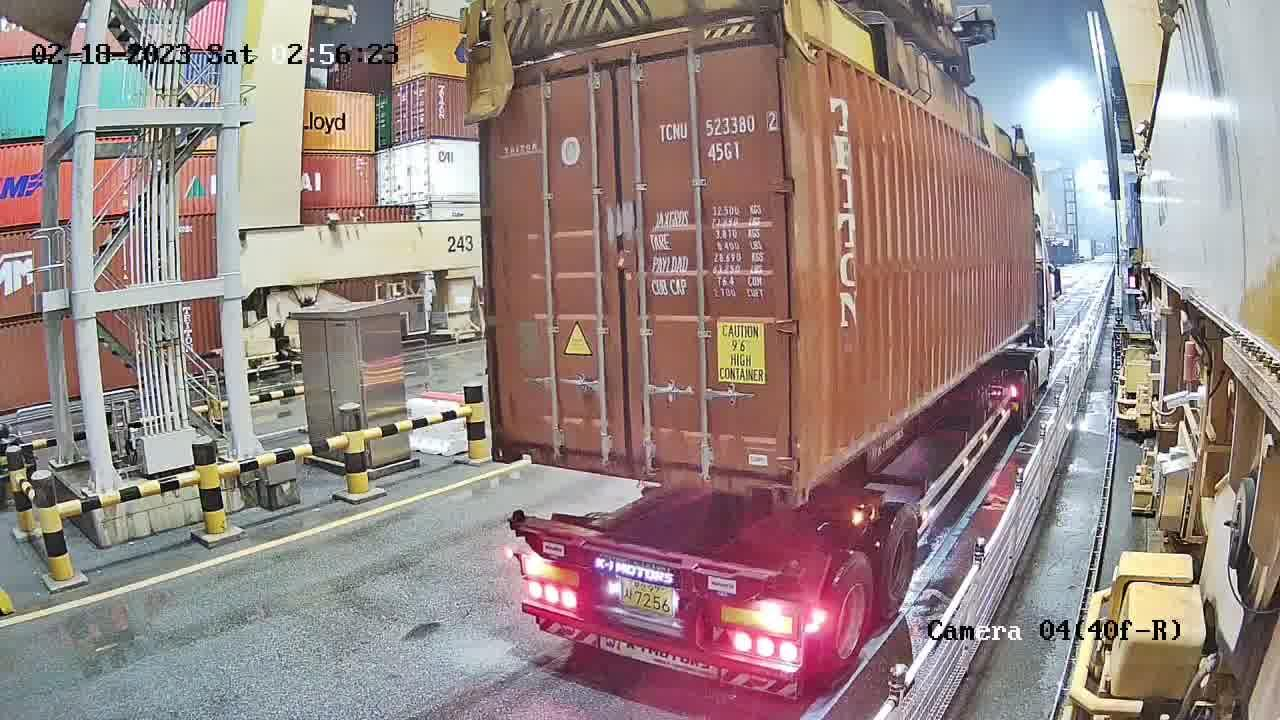Chassis: (510, 513, 786, 595)
Cone: (778, 560, 804, 591), (508, 508, 527, 537)
Hole_L: (793, 441, 826, 510), (490, 426, 532, 464)
Hole_R: (748, 456, 795, 509)
Tire: (822, 556, 874, 675), (884, 512, 918, 606)
